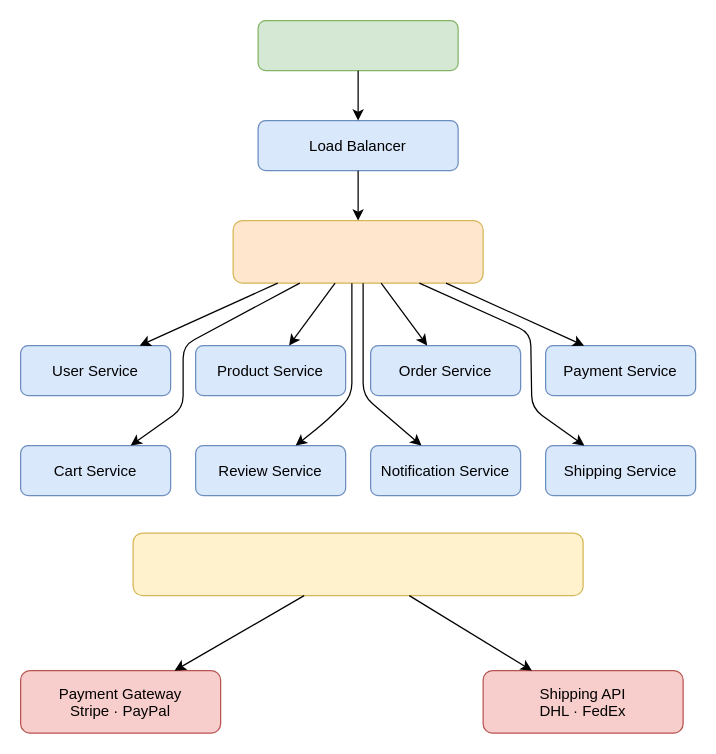
The diagram is 716 pixels wide and 754 high, and some of its shapes have lost their labels. The shapes that lost their labels are listed below. From the top down, each one's centre as x and y in pixels, then its label:
(357,45): Client (Browser)
(357,251): API Gateway Auth · Routing · Rate Limiting
(357,564): Databases Per-service DB + Redis
